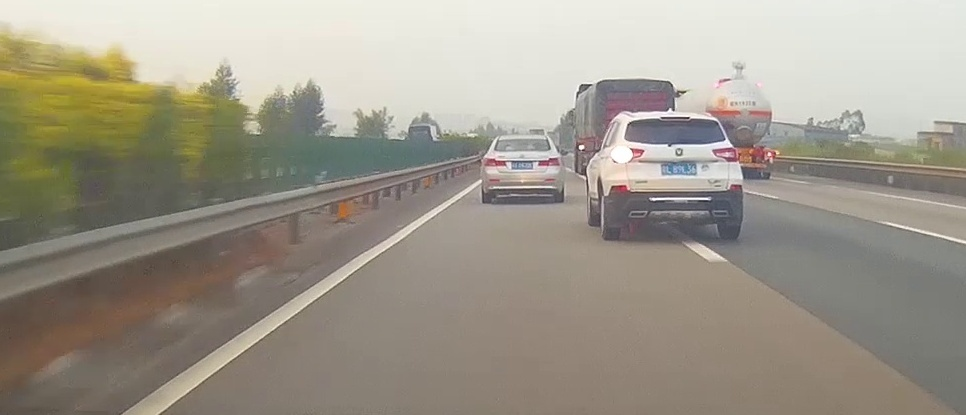L_light: (611, 146, 644, 164), (484, 157, 506, 167)
R_light: (712, 147, 738, 162), (537, 157, 559, 166)
T_light: (660, 116, 690, 121), (516, 138, 528, 141)
day-left: (608, 111, 743, 240)
day-no: (481, 134, 564, 202)
